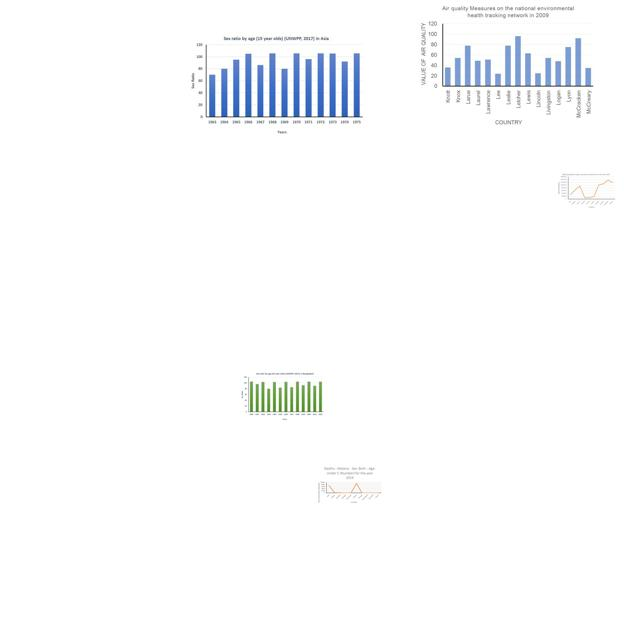Graph: (416, 1, 596, 129), (188, 33, 370, 139), (240, 371, 326, 422), (316, 465, 383, 505), (557, 173, 616, 208)
